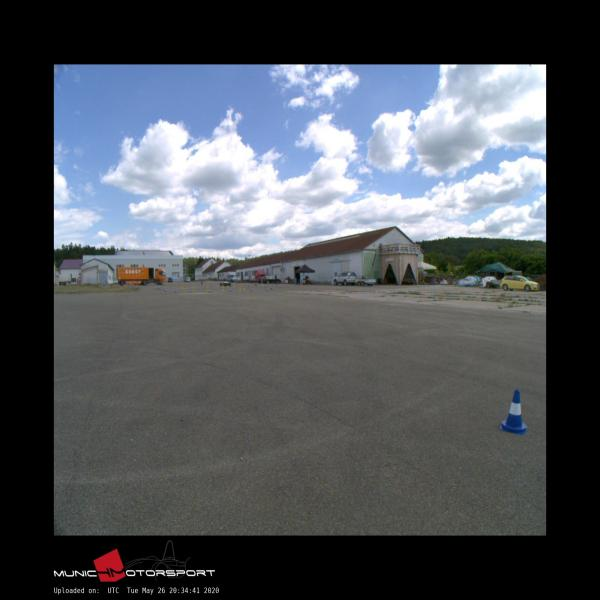blue_cone: (499, 390, 528, 434)
